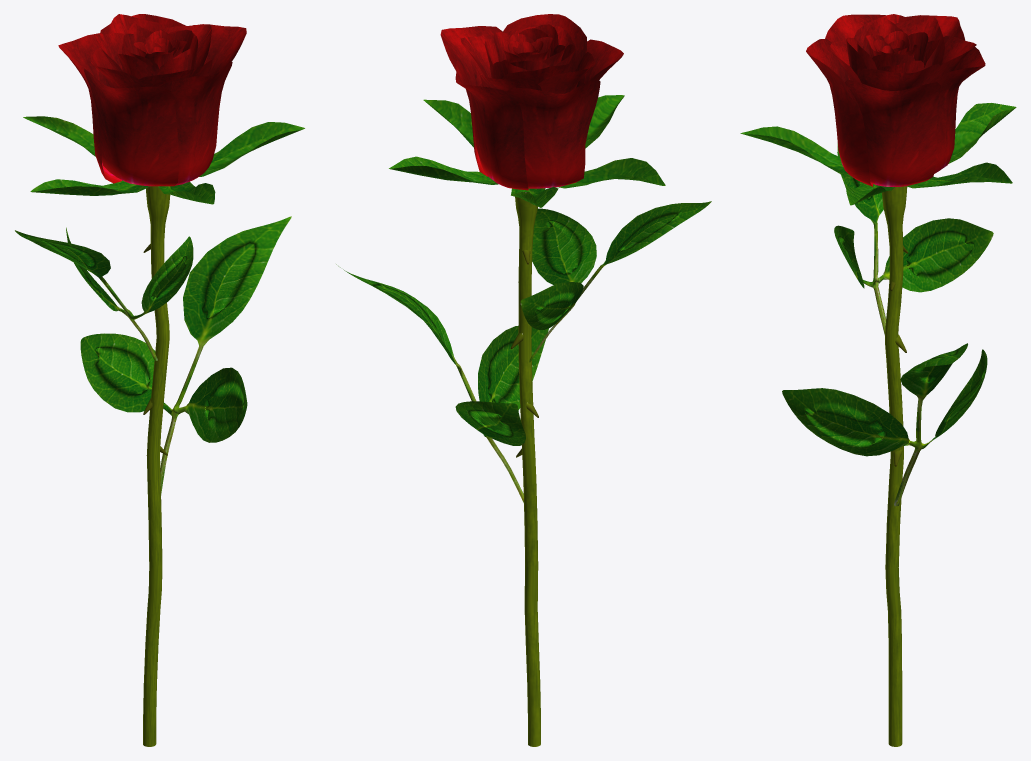
Rendered from rose.obj.
The picture shows the model from 3 angles, left to right: view 1: azimuth 30°, elevation 25°; view 2: azimuth 150°, elevation 25°; view 3: azimuth 270°, elevation 25°; orthographic projection.
Visible parts, largest first — view 1: rose1; view 2: rose1; view 3: rose1.
Part boxes in pixels (box(x1,y1,x2,y2)): rose1: box(15, 14, 304, 746); rose1: box(336, 14, 711, 746); rose1: box(740, 14, 1016, 746).
Bounding box in the file's own units: 35.98 × 73.68 × 26.
